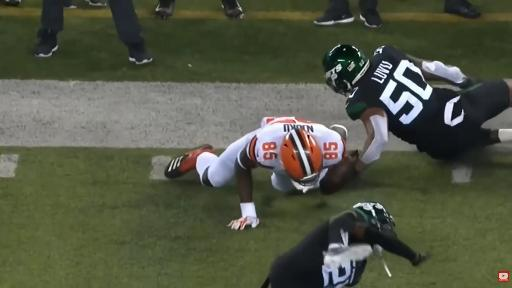Helmet: (280, 129, 323, 192), (323, 45, 369, 95), (353, 202, 395, 235)
Jersey: (346, 46, 463, 150), (246, 117, 345, 174), (327, 211, 362, 246)
Player: (323, 45, 511, 171), (165, 117, 346, 229), (263, 202, 429, 287)
